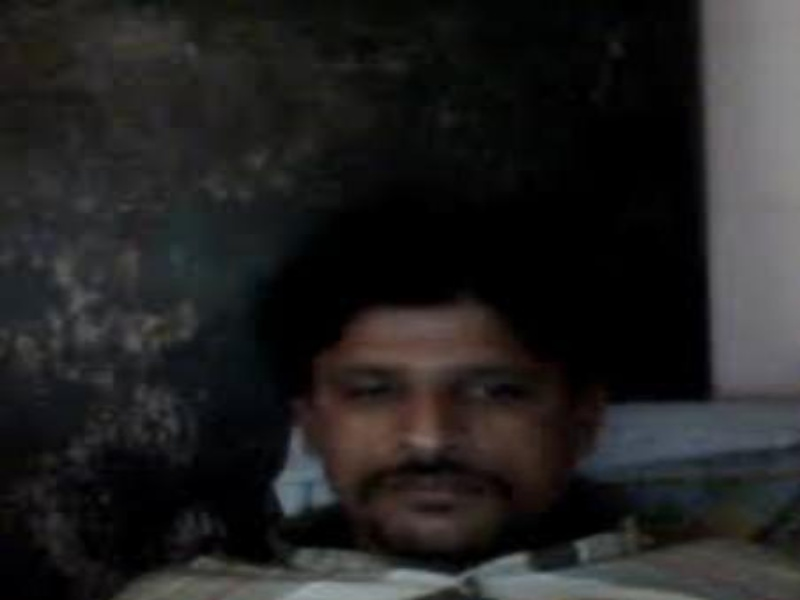TsisyArotava: (238, 181, 644, 565)
